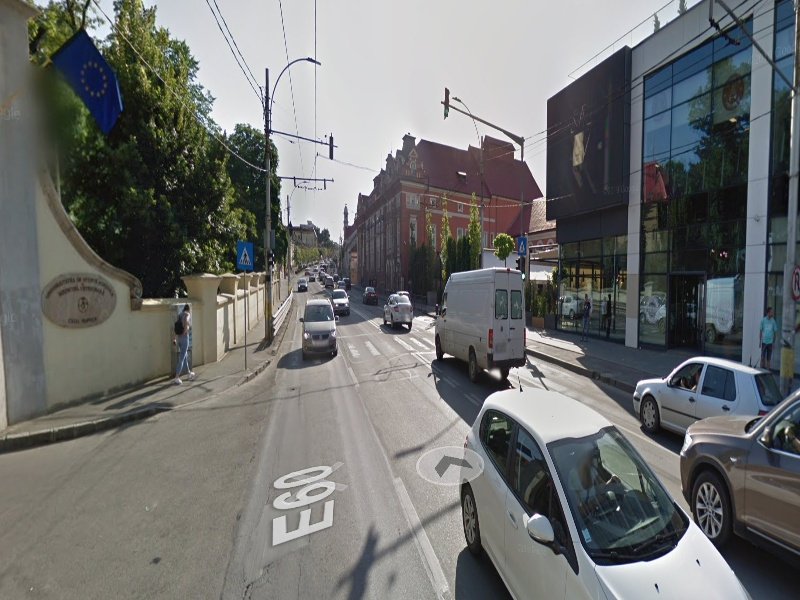crosswalk: (279, 327, 477, 364)
crosswalk_sign: (235, 241, 255, 272), (517, 237, 527, 255)
pedestrian: (171, 303, 197, 387)
semaphore: (441, 85, 452, 122), (324, 131, 337, 162)
